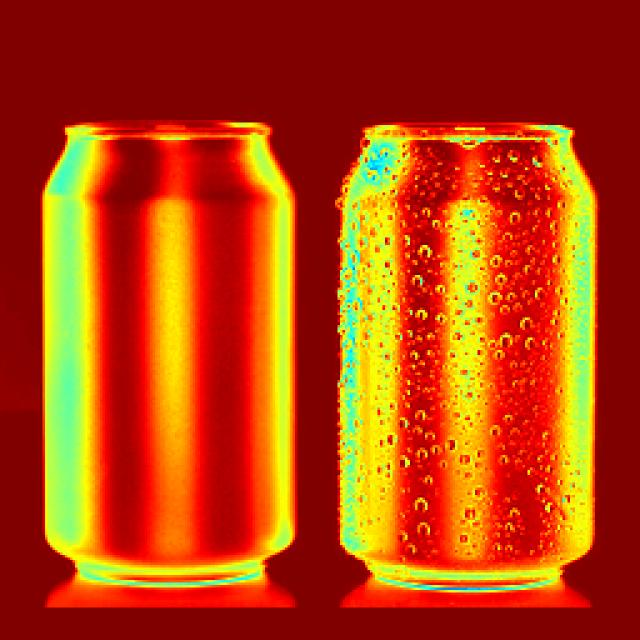Aluminium Food Cans: (314, 114, 616, 570), (30, 102, 309, 588)
